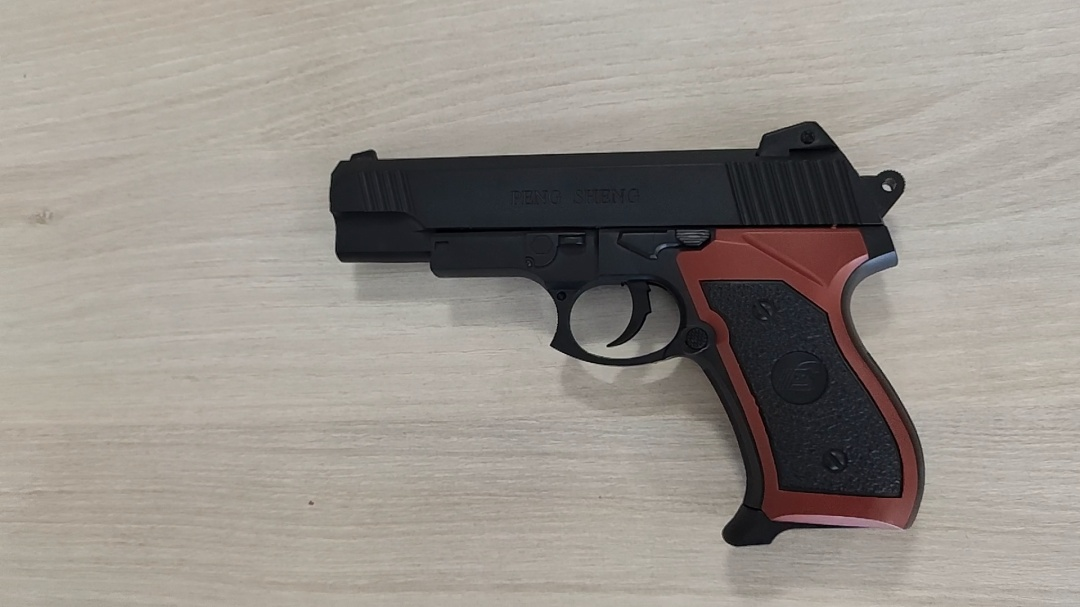gunw: (329, 122, 927, 551)
